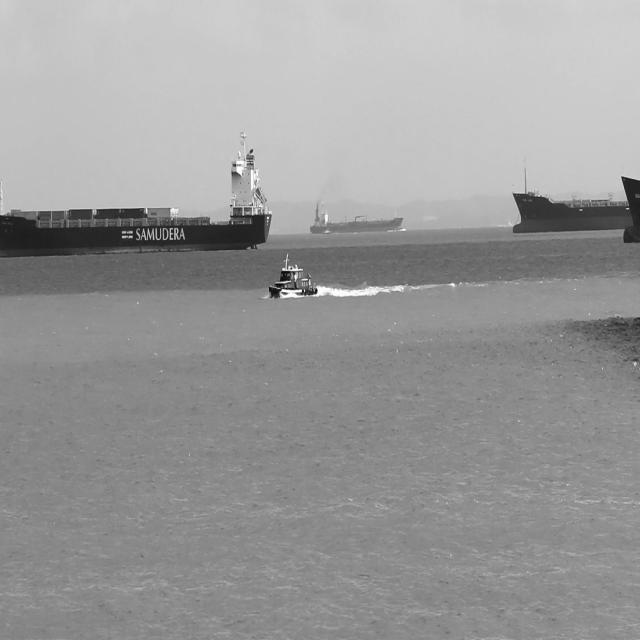ship: (0, 126, 272, 256), (511, 164, 630, 233), (309, 200, 404, 237), (268, 250, 318, 300), (619, 172, 640, 242), (321, 226, 330, 234)
